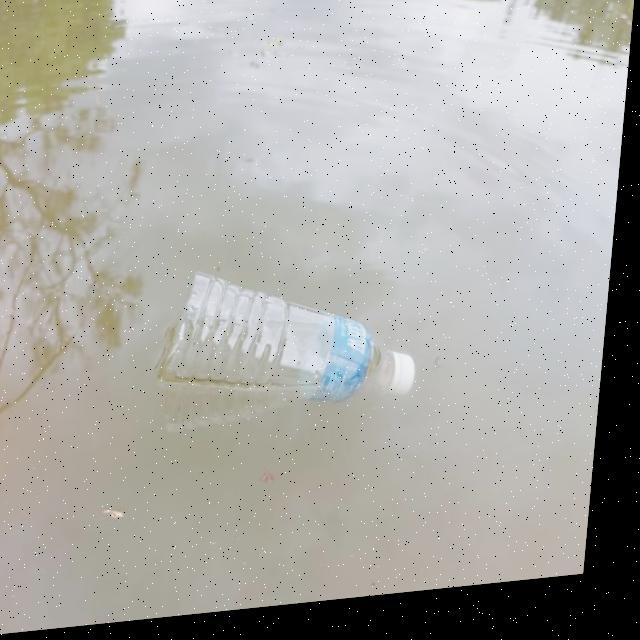waterbottle: (166, 235, 449, 473)
